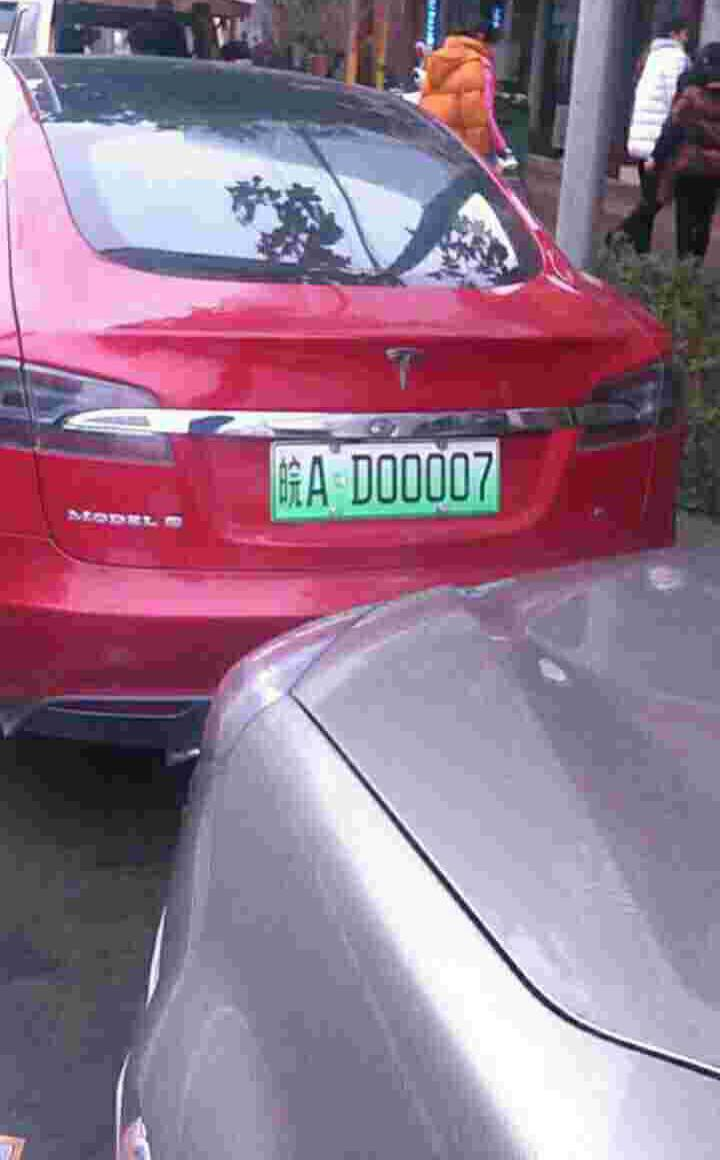car: (256, 436, 510, 519)
